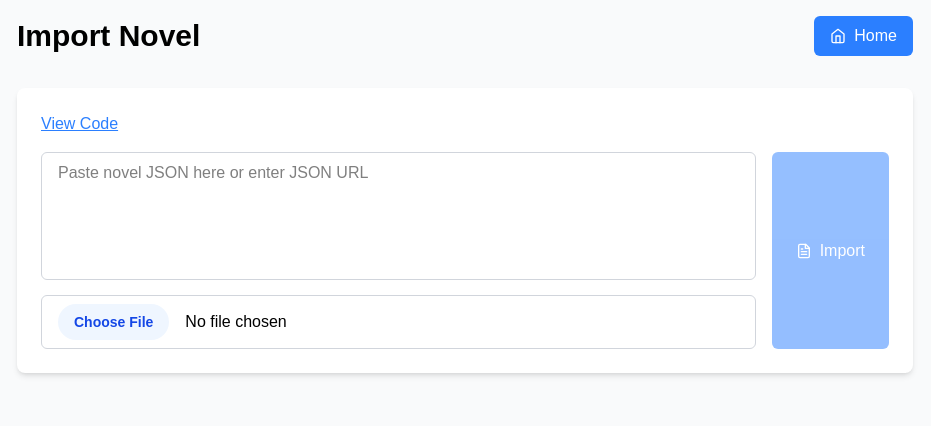
Test: ImportPage › URL Fetch › shows error when URL fetch fails
Type "https://example.com/novel.json" into the text box with placeholder "Paste novel JSON here or enter JSON URL" at (398, 216), box [41, 152, 756, 280]
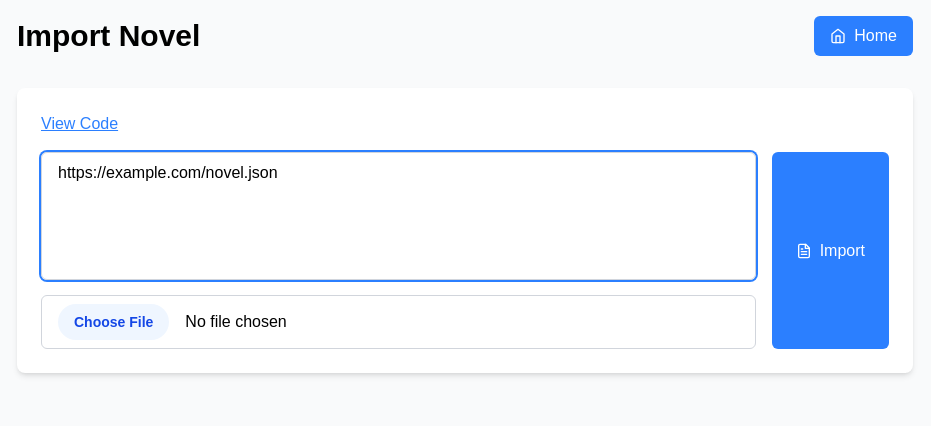
Click the button "Import" at (830, 250), box [772, 152, 889, 349]
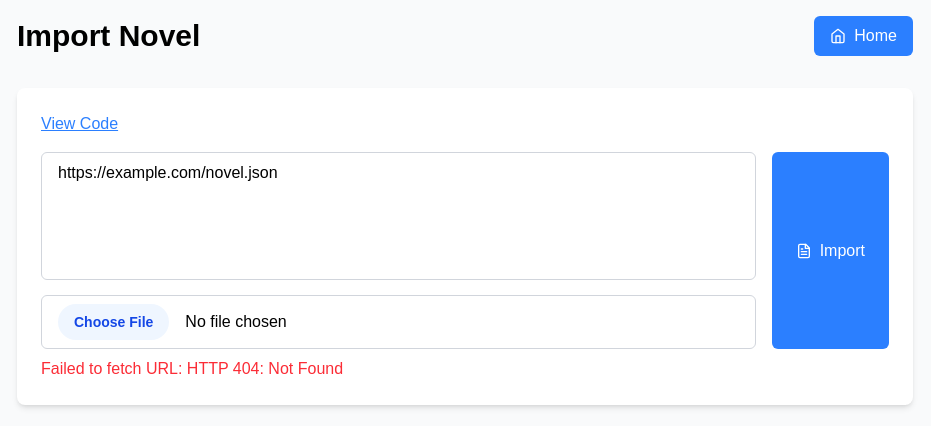
Now the text "Failed to fetch URL: HTTP 404: Not Found" is shown, box [41, 360, 343, 377]
